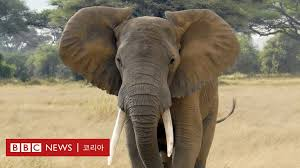Elephant: (56, 4, 242, 166)
